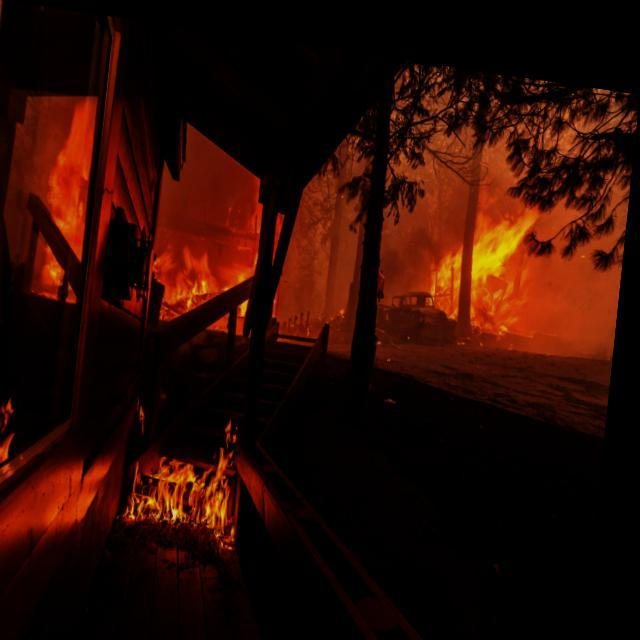Fire: (158, 165, 294, 328), (432, 164, 554, 330), (136, 397, 260, 544)
